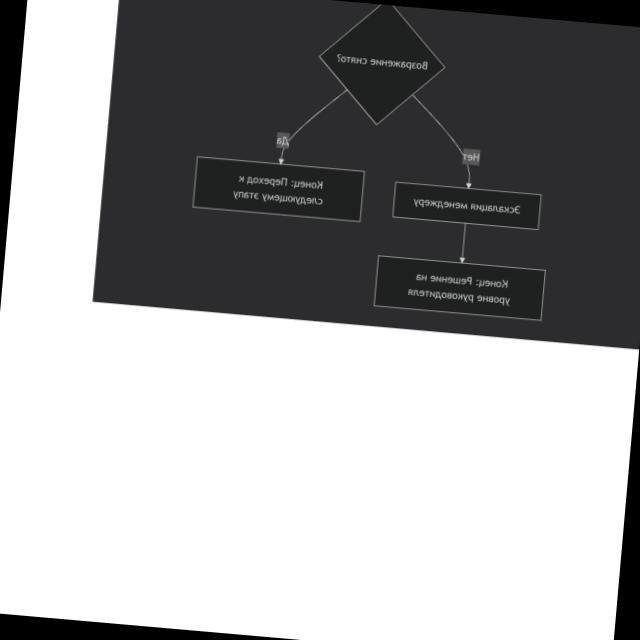arrow: (404, 94, 479, 189), (278, 84, 348, 168), (458, 222, 470, 263)
rectangle: (372, 254, 545, 321), (191, 157, 364, 222), (391, 181, 541, 230)
text_region: (462, 150, 480, 163), (276, 134, 289, 148)
